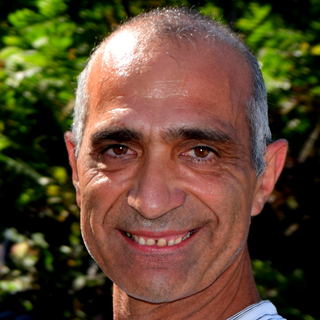eye: (179, 140, 226, 165), (95, 138, 136, 162)
